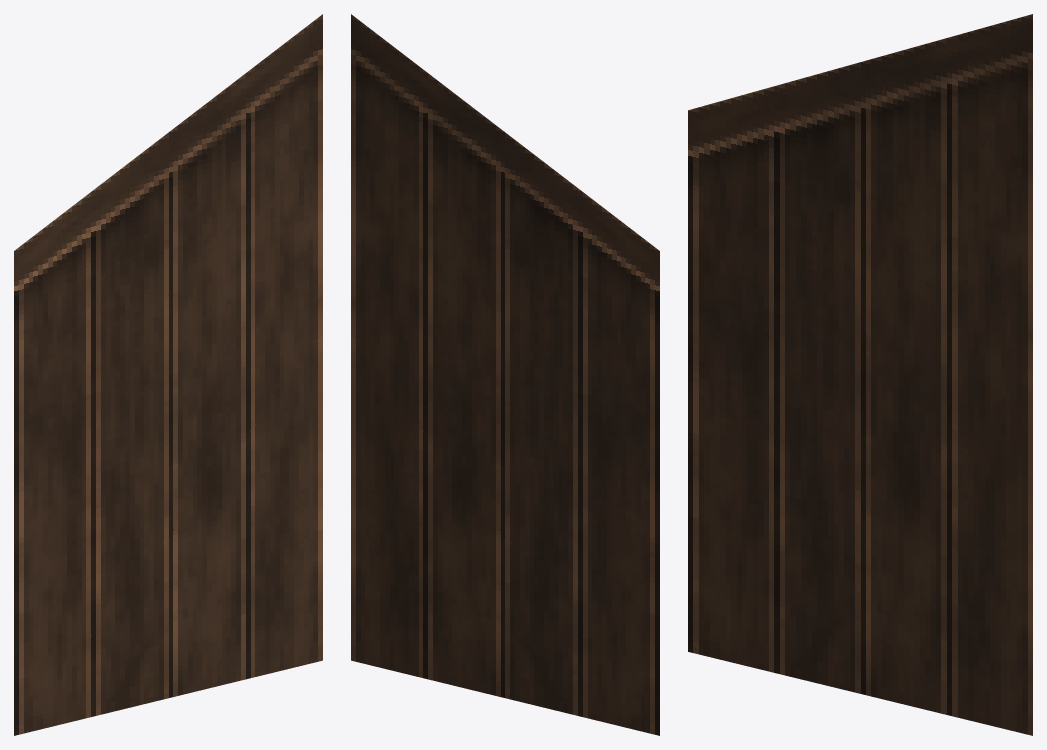
File: house_side_roof_8.glb
3 views of the same model, side by side, from view 1: azimuth 30°, elevation 25°; view 2: azimuth 150°, elevation 25°; view 3: azimuth 330°, elevation 25° (orthographic). The views are drawn at different scales.
Parts seen in each view (by area): view 1: house_side_roof_8; view 2: house_side_roof_8; view 3: house_side_roof_8.
Boxes of the visible parts, left/top/right/bottom form: house_side_roof_8: left=14, top=14, right=322, bottom=735; house_side_roof_8: left=351, top=14, right=659, bottom=735; house_side_roof_8: left=688, top=14, right=1032, bottom=735.
Size of the model in its own units: 1 by 2 by 2.98e-07.
1 material, 1 textured.
